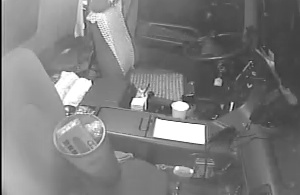cup: (169, 100, 190, 120)
